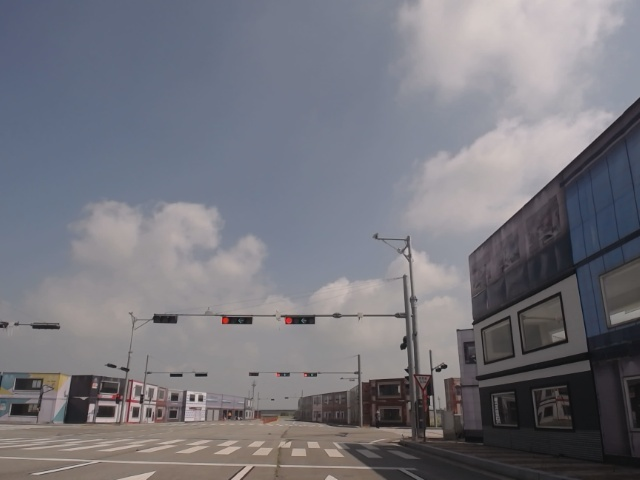left_green_4: (221, 316, 253, 325), (285, 317, 316, 325)
